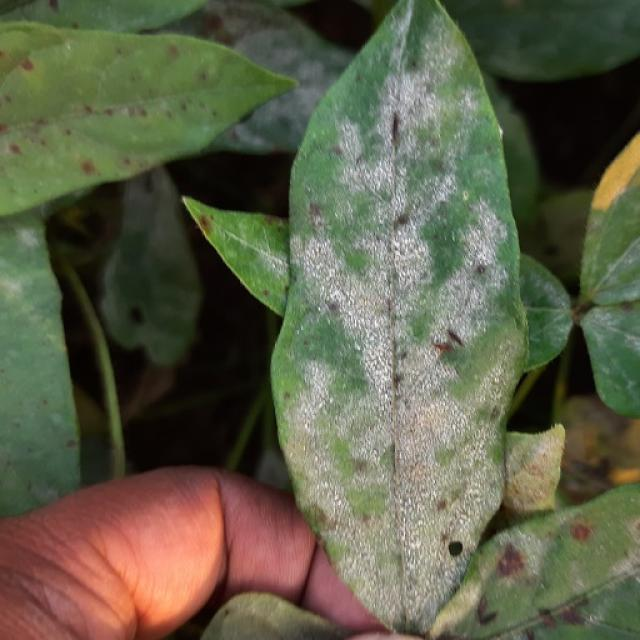Blackgram: (273, 0, 521, 634)
Powdery_Mildew: (289, 267, 416, 613), (372, 44, 468, 229), (385, 464, 463, 637), (301, 185, 389, 326), (403, 347, 495, 479), (343, 274, 406, 445), (381, 171, 445, 337), (329, 282, 394, 415), (457, 202, 512, 339), (390, 66, 421, 135)
